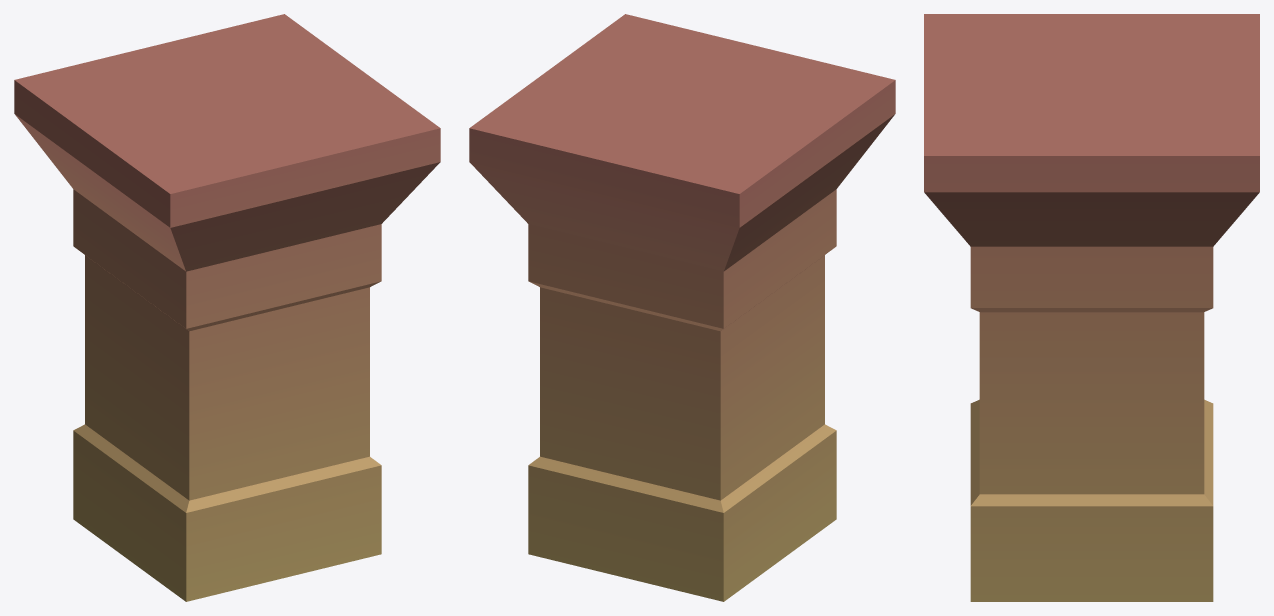
3 views of the same model, side by side, from view 1: azimuth 30°, elevation 25°; view 2: azimuth 150°, elevation 25°; view 3: azimuth 270°, elevation 25° (orthographic). The views are drawn at different scales.
Parts seen in each view (by area): view 1: Cube.034; view 2: Cube.034; view 3: Cube.034.
Boxes of the visible parts, <box> form: Cube.034: <box>14,14,440,601</box>; Cube.034: <box>469,14,895,601</box>; Cube.034: <box>924,14,1259,601</box>.
Size of the model in its own units: 23.42 by 35.83 by 23.42.
